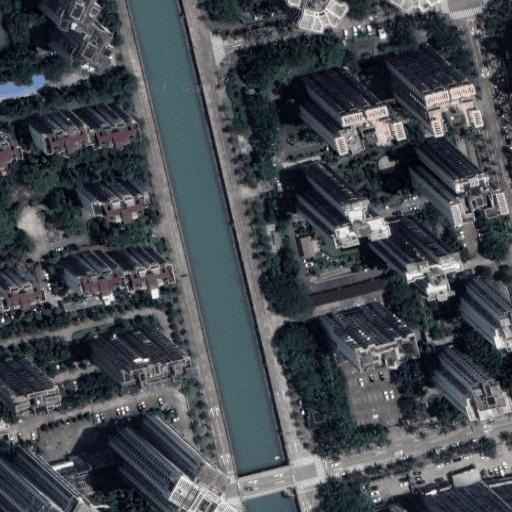building: (113, 412, 182, 486), (63, 244, 156, 292), (25, 101, 126, 141), (299, 68, 374, 121), (385, 45, 447, 104), (411, 136, 473, 190), (420, 476, 512, 512), (296, 166, 357, 217), (371, 216, 432, 265), (321, 302, 389, 344), (90, 327, 165, 362), (53, 3, 96, 60), (307, 277, 385, 307), (79, 174, 142, 209), (433, 351, 482, 394), (460, 276, 504, 319), (0, 64, 43, 95), (0, 357, 32, 385), (0, 262, 29, 292), (453, 468, 481, 489), (299, 235, 315, 258)
